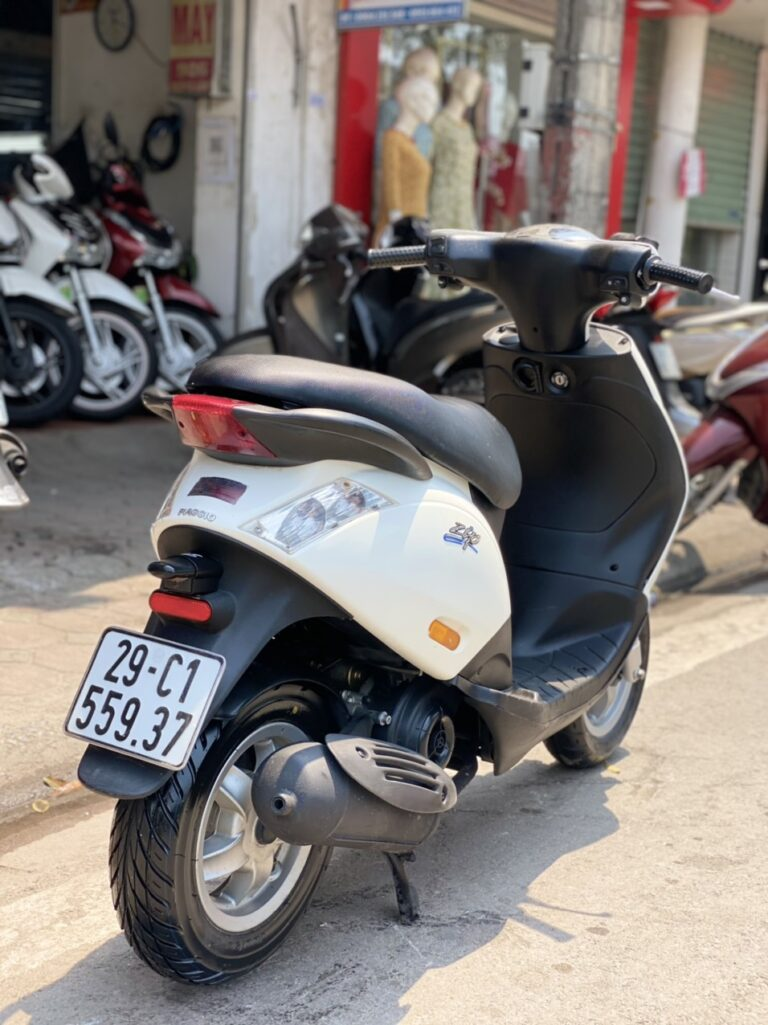bien_so: (58, 616, 236, 778)
